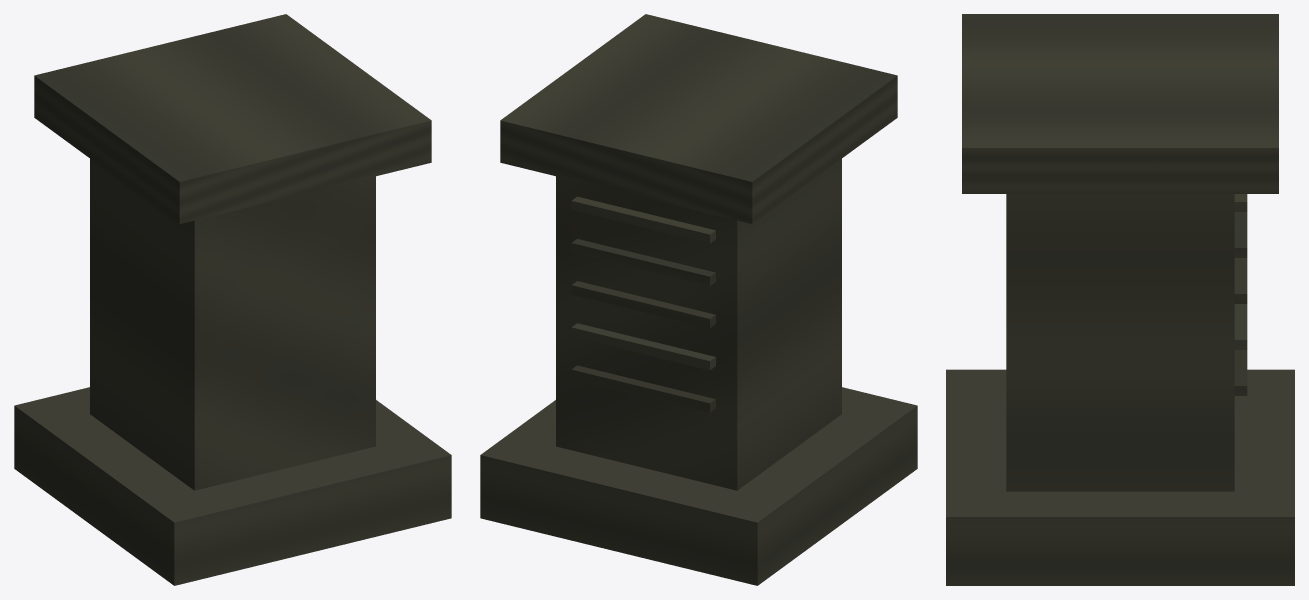
The model's file is vent_shaft.glb.
3 renders of one model, left to right at view 1: azimuth 30°, elevation 25°; view 2: azimuth 150°, elevation 25°; view 3: azimuth 270°, elevation 25°, orthographic. The views are drawn at different scales.
Parts seen in each view (by area): view 1: vent_shaft; view 2: vent_shaft; view 3: vent_shaft.
Part boxes in pixels (left/top/right/bottom): vent_shaft: left=14, top=14, right=451, bottom=585; vent_shaft: left=480, top=14, right=917, bottom=585; vent_shaft: left=946, top=14, right=1294, bottom=585.
Size of the model in its own units: 1.1 by 1.5 by 1.1.
1 material, 1 textured.
